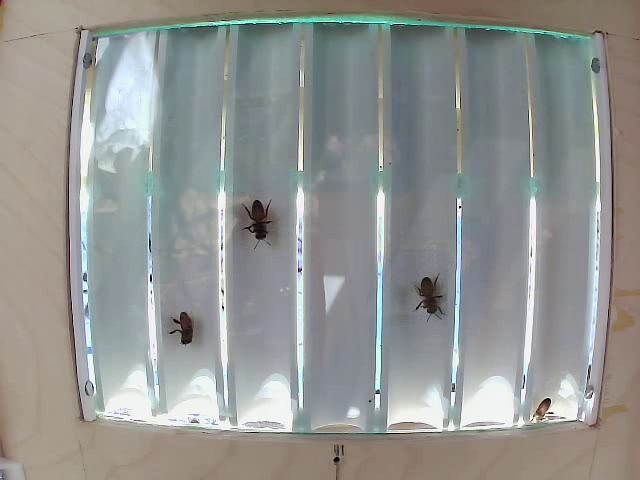bee: (167, 287, 201, 359), (411, 264, 442, 319), (245, 197, 278, 245)
